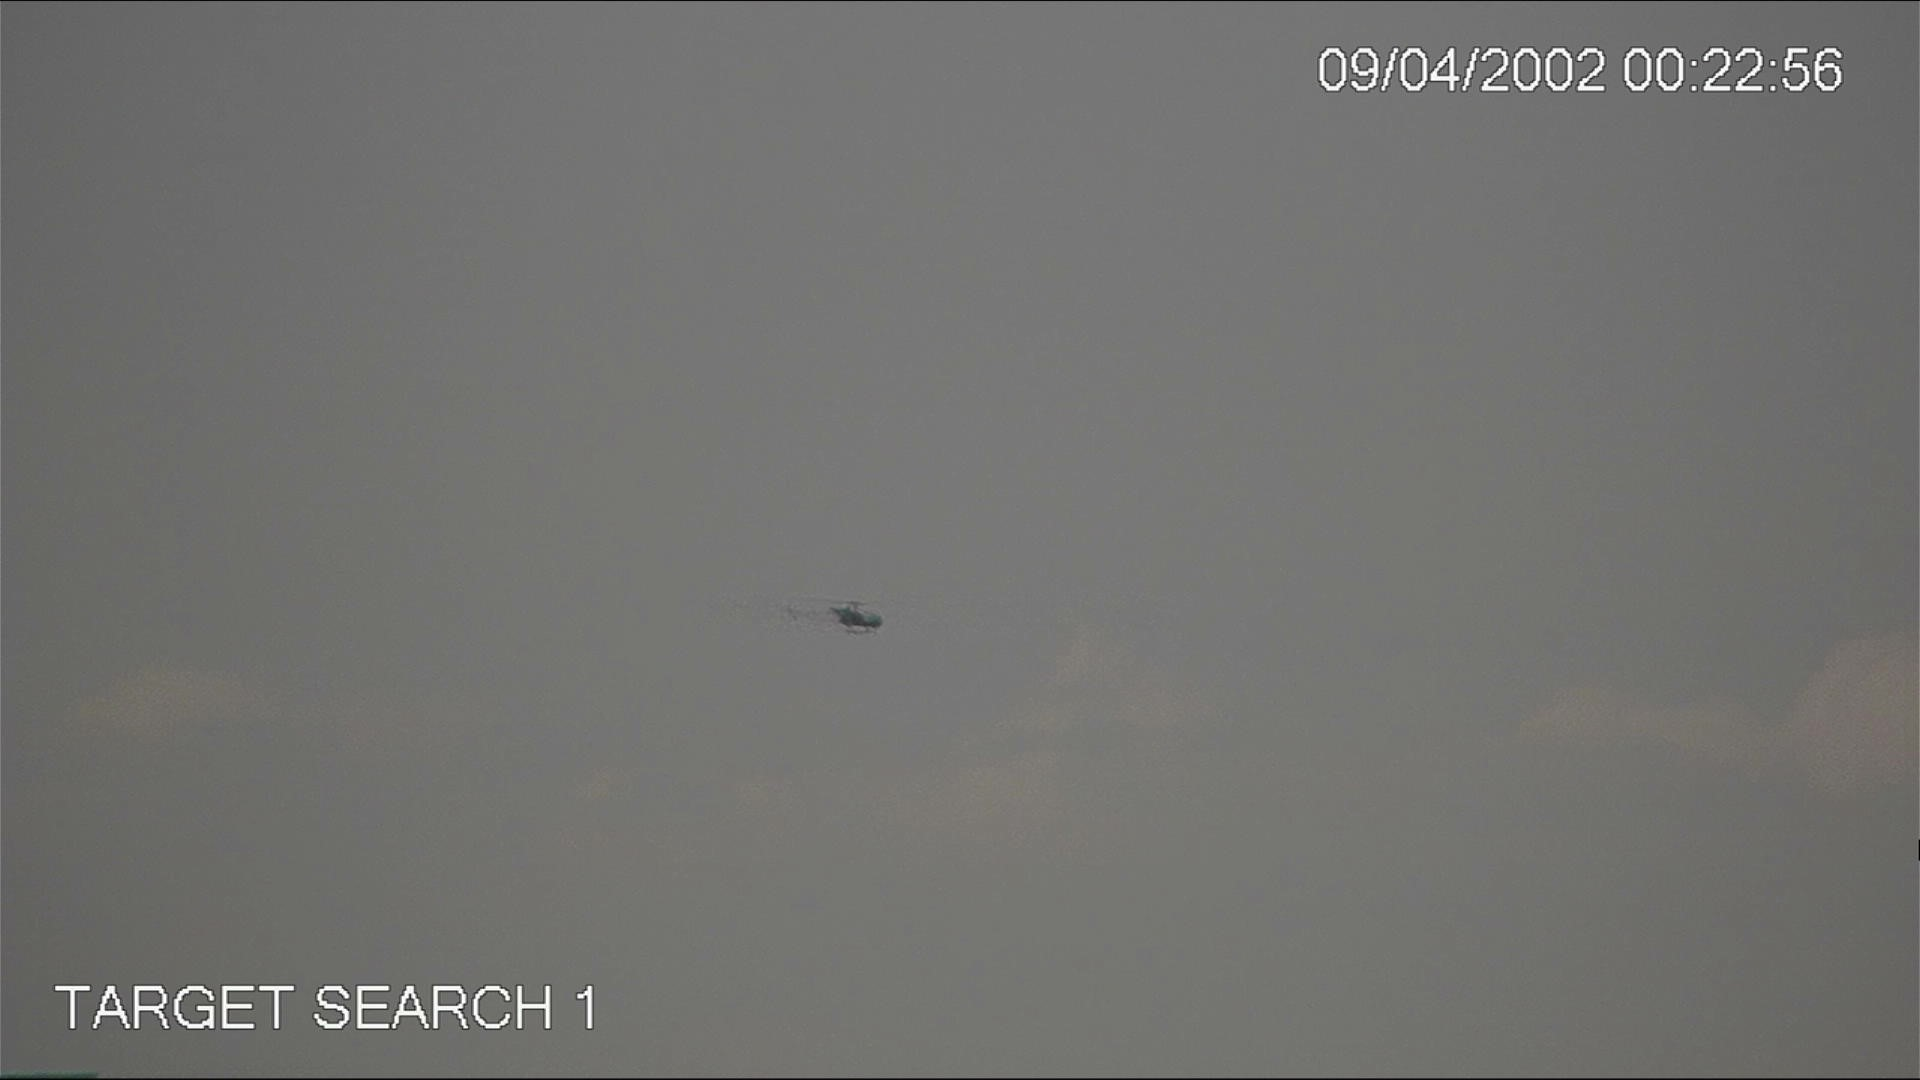SU_30: (778, 593, 891, 644)
